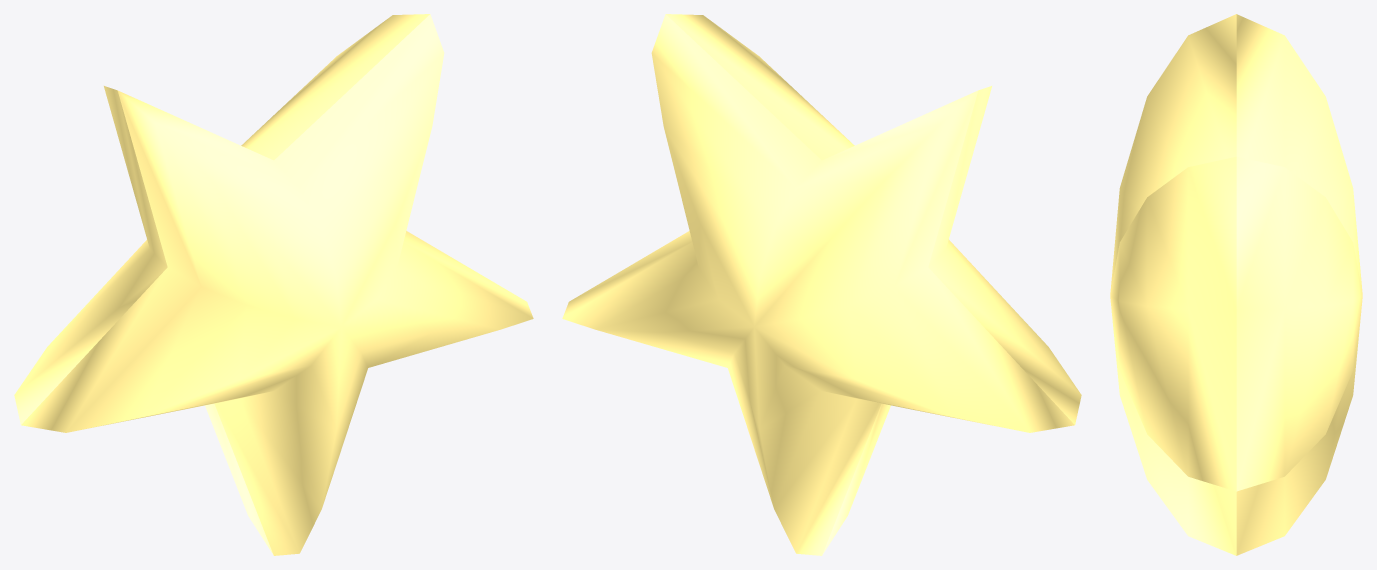
3 renders of one model, left to right at view 1: azimuth 30°, elevation 25°; view 2: azimuth 150°, elevation 25°; view 3: azimuth 270°, elevation 25°, orthographic. The views are drawn at different scales.
Size of the model in its own units: 0.9511 by 0.9045 by 0.44.
